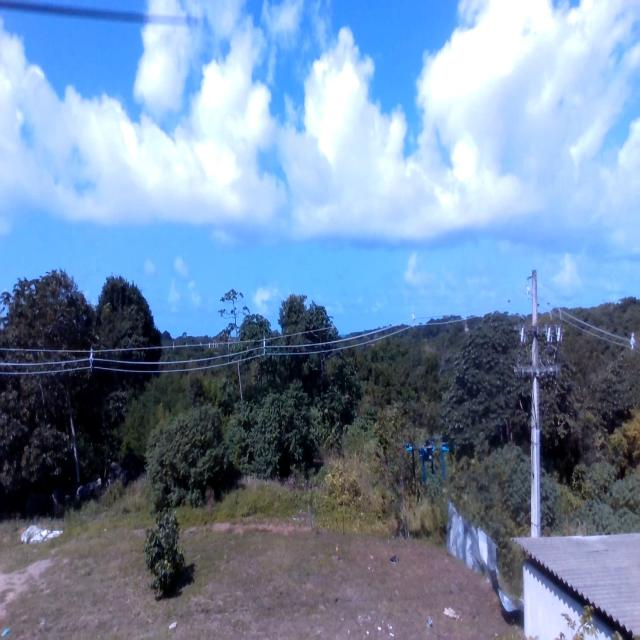-uav-: (404, 434, 454, 487)
